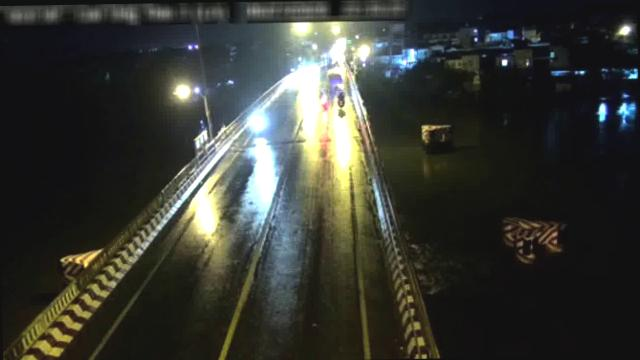Bike: (318, 88, 331, 112), (336, 91, 348, 112)
